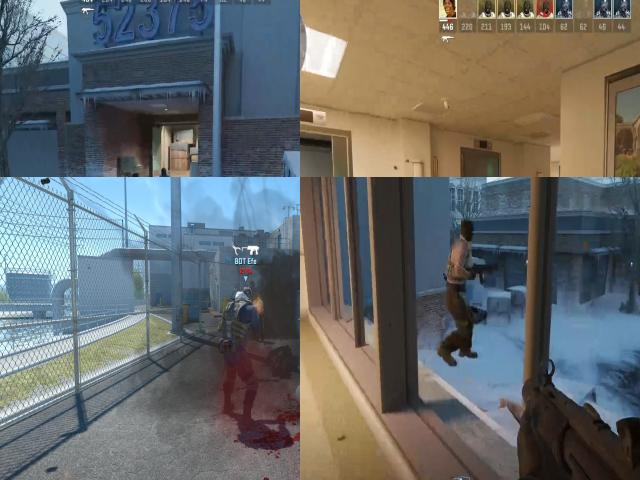CT: (227, 285, 254, 423)
CT-Head: (237, 288, 250, 304)
Dead: (276, 343, 300, 380)
T: (444, 240, 478, 314), (252, 294, 266, 338), (152, 162, 174, 177)
T-Head: (451, 218, 478, 249), (157, 167, 170, 177), (254, 294, 260, 301)
